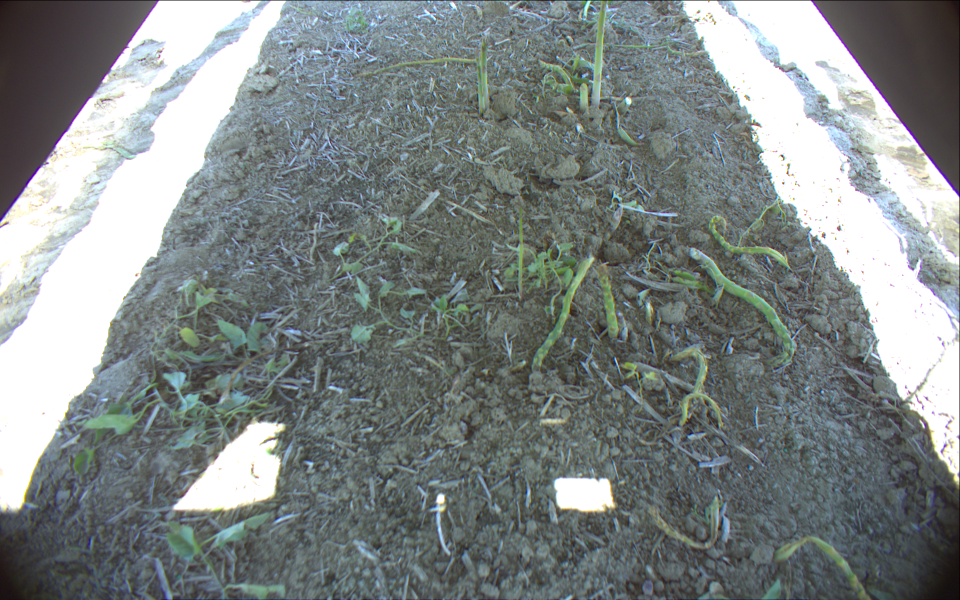aspa: (592, 262, 621, 343), (589, 1, 610, 106), (515, 195, 529, 304), (475, 36, 489, 119), (575, 80, 591, 111)
